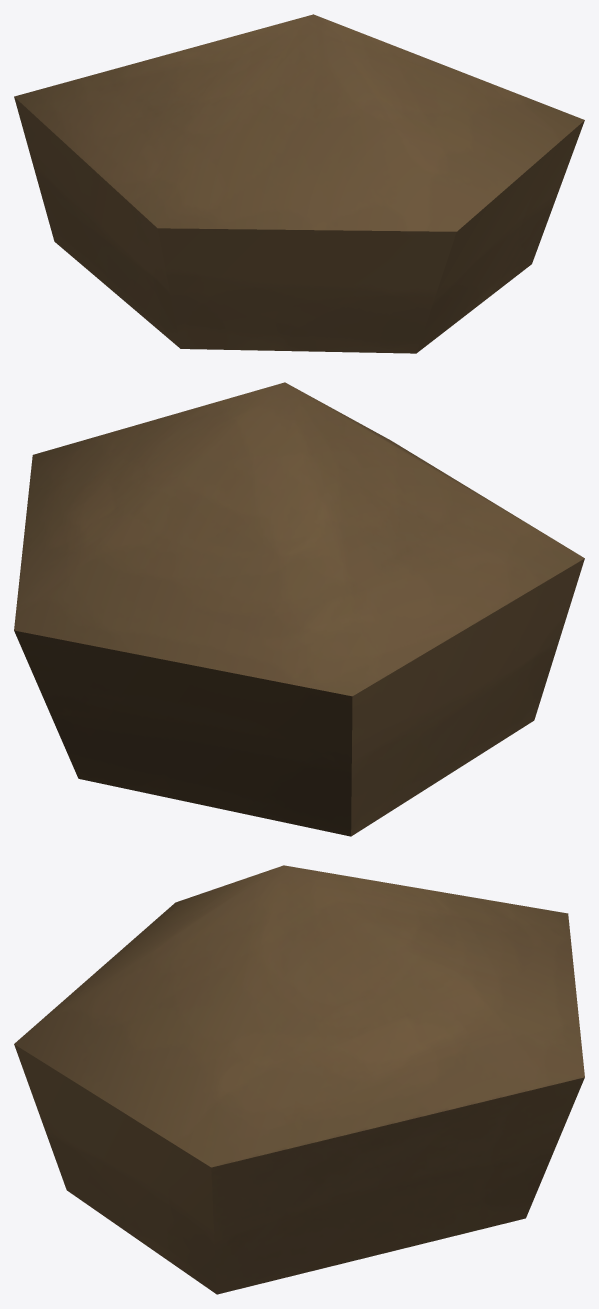
Rendered from Stone_01.FBX.
3 views of the same model, one above another, from view 1: azimuth 30°, elevation 25°; view 2: azimuth 150°, elevation 25°; view 3: azimuth 270°, elevation 25° (orthographic). The views are drawn at different scales.
Visible parts, largest first — view 1: Stone_01; view 2: Stone_01; view 3: Stone_01.
Boxes of the visible parts, box(x1,y1,x2,y2) form: Stone_01: box(14, 14, 584, 353); Stone_01: box(14, 382, 584, 836); Stone_01: box(14, 865, 584, 1294).
Size of the model in its own units: 29.04 by 27.78 by 17.24.
